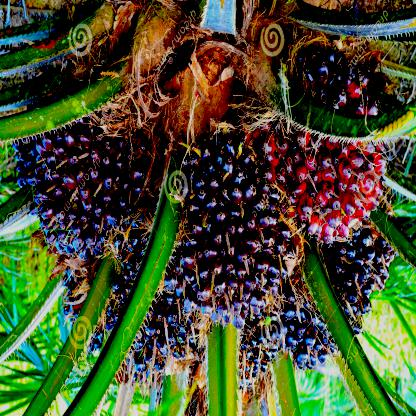1: (283, 45, 388, 243)
palm-oil: (162, 141, 296, 318), (19, 112, 144, 263), (275, 253, 389, 365), (108, 300, 203, 382), (62, 264, 123, 343), (232, 314, 272, 384)
